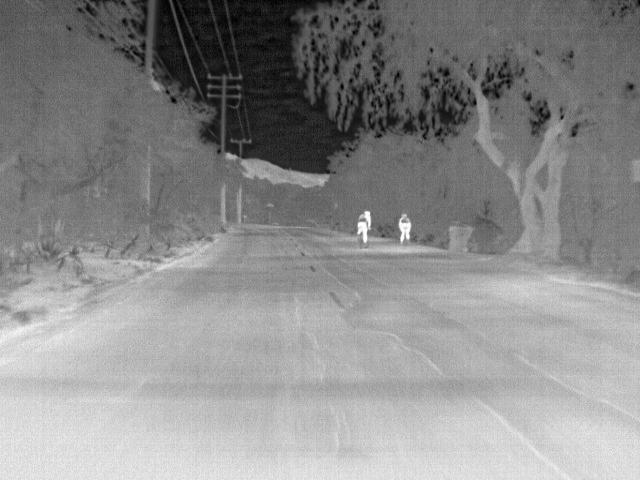person: (353, 207, 374, 246), (397, 211, 413, 247)
